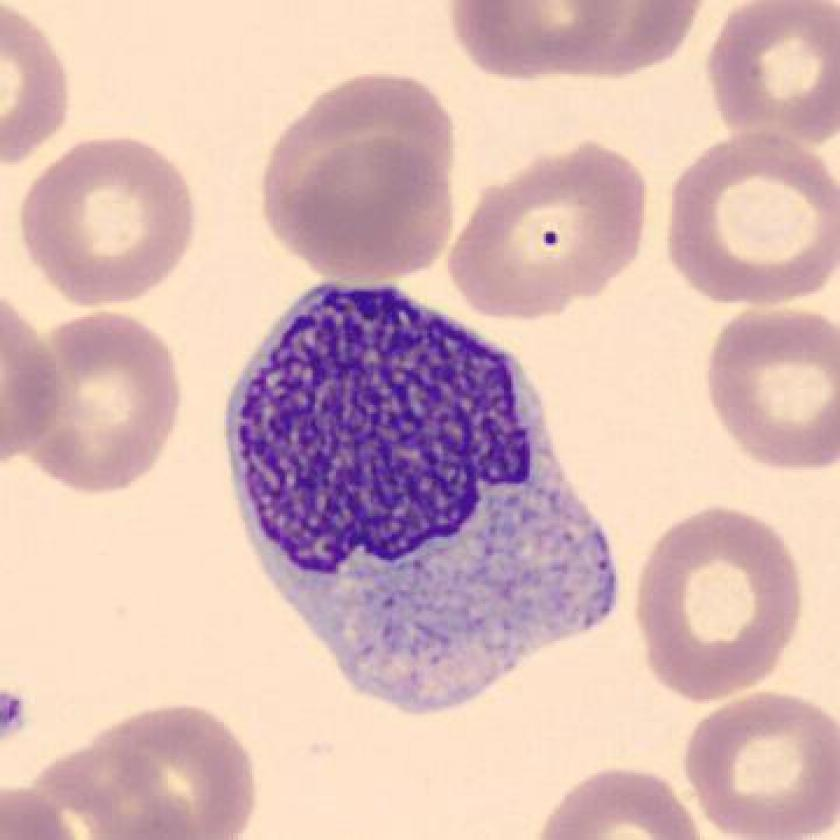monocyte: (202, 265, 633, 728)
